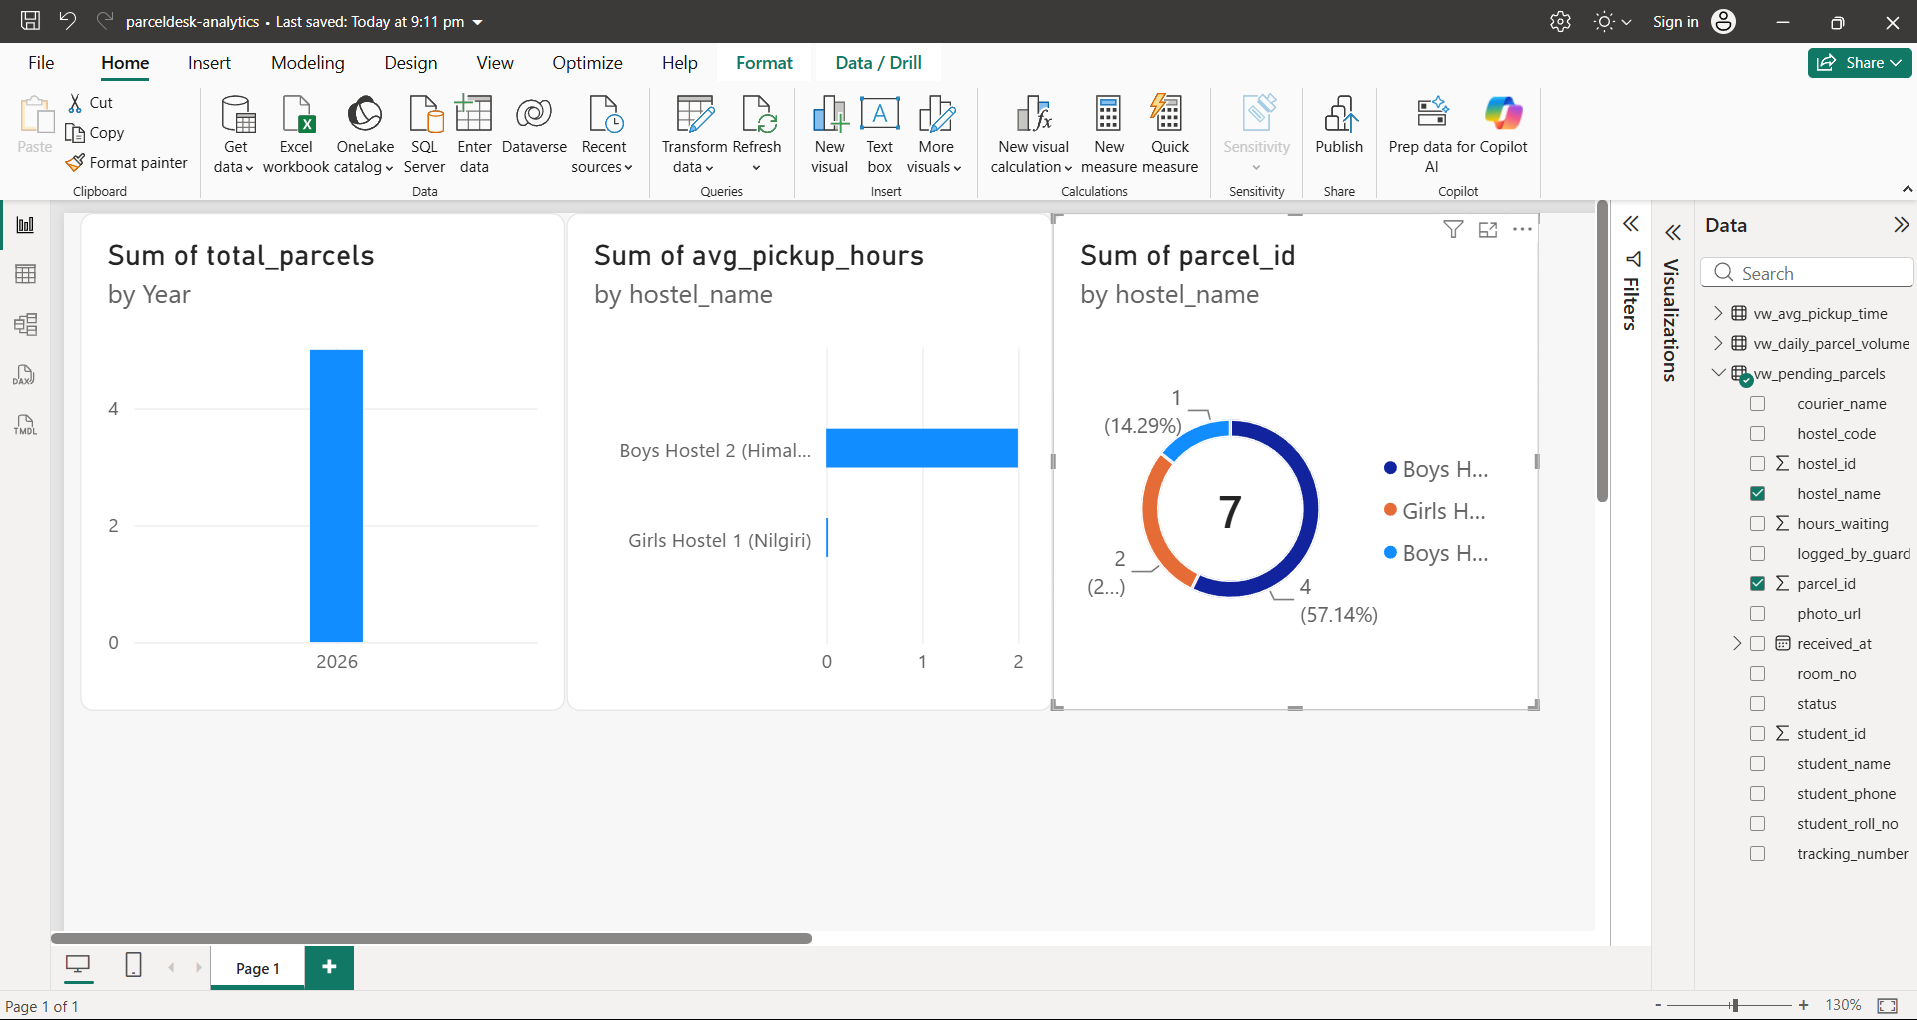

What the dashboard file says about the page in this screenshot:
{"tool":"powerbi","page":{"name":"Page 1","canvas":[1920,1080],"ordinal":0},"visuals":[{"type":"clusteredColumnChart","fields":{"Category":["vw_daily_parcel_volume.log_date.Variation.Date Hierarchy.Year","vw_daily_parcel_volume.log_date.Variation.Date Hierarchy.Quarter","vw_daily_parcel_volume.log_date.Variation.Date Hierarchy.Month","vw_daily_parcel_volume.log_date.Variation.Date Hierarchy.Day"],"Y":["Sum(vw_daily_parcel_volume.total_parcels)"]},"box":[10,0,298.8,306.2],"z":0},{"type":"clusteredBarChart","fields":{"Category":["vw_avg_pickup_time.hostel_name"],"Y":["Sum(vw_avg_pickup_time.avg_pickup_hours)"]},"box":[309.2,0,299,306],"z":1000},{"type":"donutChart","fields":{"Category":["vw_pending_parcels.hostel_name"],"Y":["Sum(vw_pending_parcels.parcel_id)"]},"box":[608.5,0,299,306],"z":2000}]}

Visuals, with their boxes on the page's 1920x1080 design canvas (x1, y1, x2, y2). These are canvas units, not pixel positions in the 1917x1020 screenshot, which may show the page scaled, cropped or inside an application window:
clusteredColumnChart - vw_daily_parcel_volume.log_date.Variation.Date Hierarchy.Year x vw_daily_parcel_volume.log_date.Variation.Date Hierarchy.Quarter: 10,0,309,306
clusteredBarChart - vw_avg_pickup_time.hostel_name x Sum(vw_avg_pickup_time.avg_pickup_hours): 309,0,608,306
donutChart - vw_pending_parcels.hostel_name x Sum(vw_pending_parcels.parcel_id): 608,0,908,306
